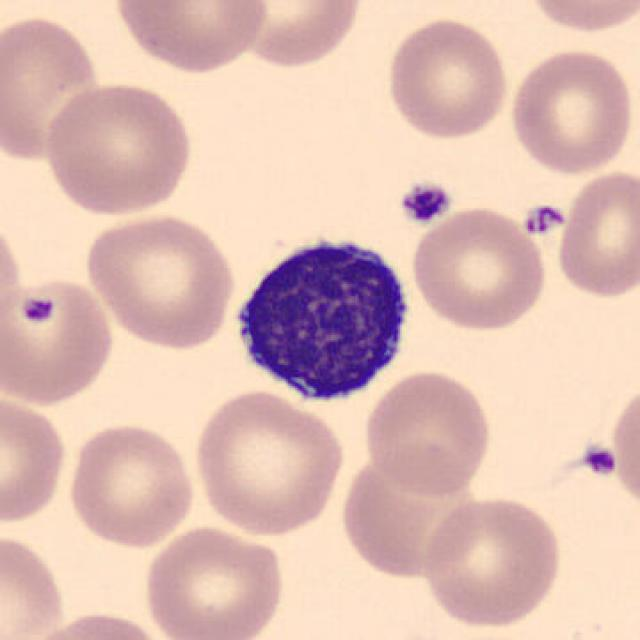Lymphocyte: (222, 222, 420, 413)
Platelets: (594, 407, 633, 499), (395, 178, 453, 226), (519, 199, 569, 238), (580, 437, 618, 480)
RBC: (188, 386, 346, 538), (82, 210, 238, 351), (39, 78, 196, 218), (334, 448, 491, 585), (418, 492, 565, 629), (407, 203, 549, 333), (359, 365, 496, 497), (62, 420, 199, 550), (140, 522, 288, 640), (505, 44, 636, 176), (382, 14, 512, 143), (0, 11, 105, 166), (0, 273, 117, 407), (110, 0, 272, 76), (553, 166, 638, 302), (226, 0, 366, 71), (0, 392, 71, 528), (0, 527, 69, 640), (19, 608, 172, 640), (606, 374, 640, 513), (519, 0, 638, 35)
